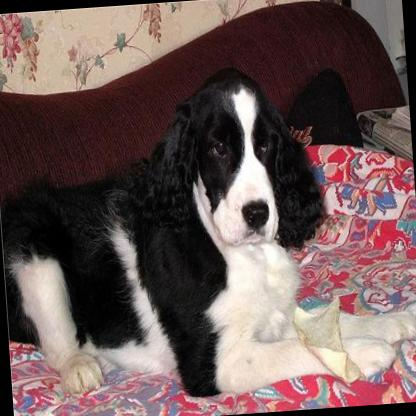English_springer: (0, 50, 416, 409)
